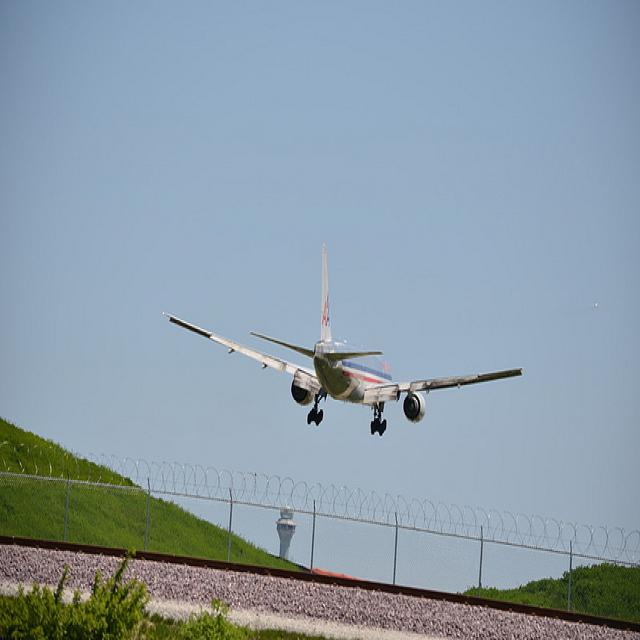airplane: (159, 240, 525, 438)
